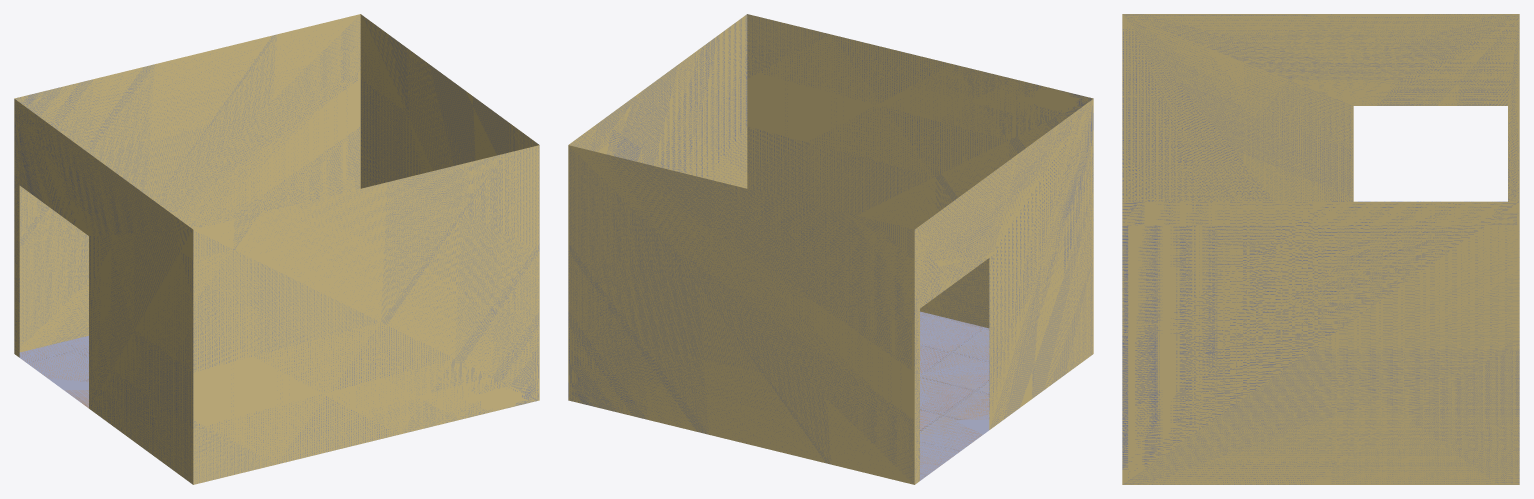
File: LAB004.obj
3 renders of one model, left to right at view 1: azimuth 30°, elevation 25°; view 2: azimuth 150°, elevation 25°; view 3: azimuth 270°, elevation 25°, orthographic. The views are drawn at different scales.
Parts seen in each view (by area): view 1: Mesh1 LAB004 Model; view 2: Mesh1 LAB004 Model; view 3: Mesh1 LAB004 Model.
Boxes of the visible parts, x1,y1,x2,y2 form: Mesh1 LAB004 Model: (14,14,539,484); Mesh1 LAB004 Model: (568,14,1093,484); Mesh1 LAB004 Model: (1122,14,1519,484).
Bounding box in the file's own units: 4.26 × 3 × 3.82.
3 materials, 1 textured.
